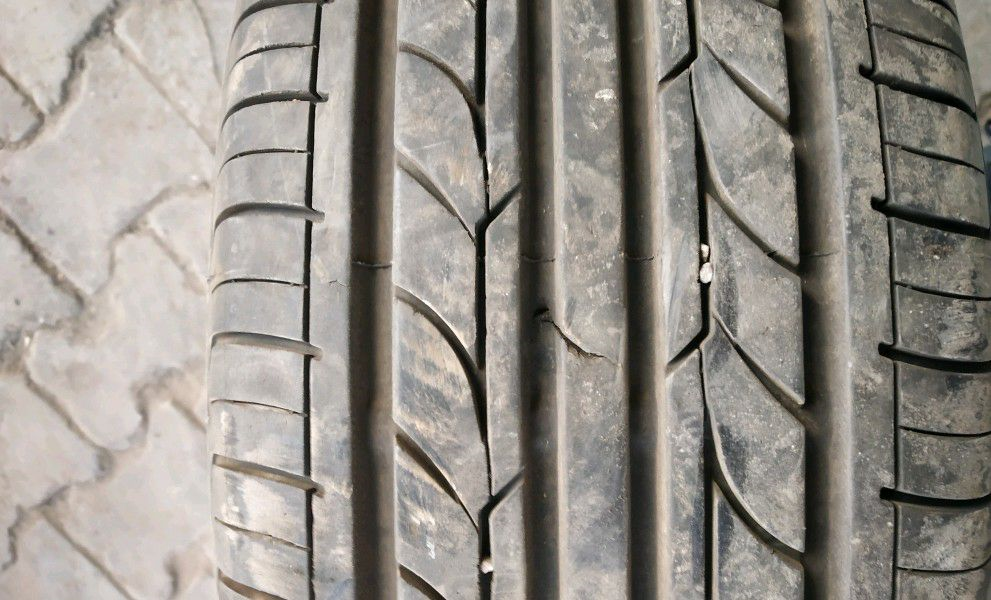tr: (518, 295, 616, 365)
